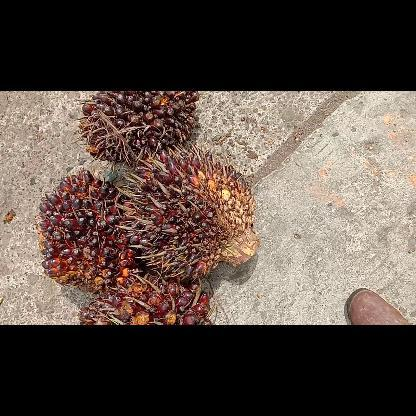Kurang masak: (118, 150, 262, 284), (35, 169, 141, 294), (73, 90, 203, 170), (80, 268, 220, 324)
